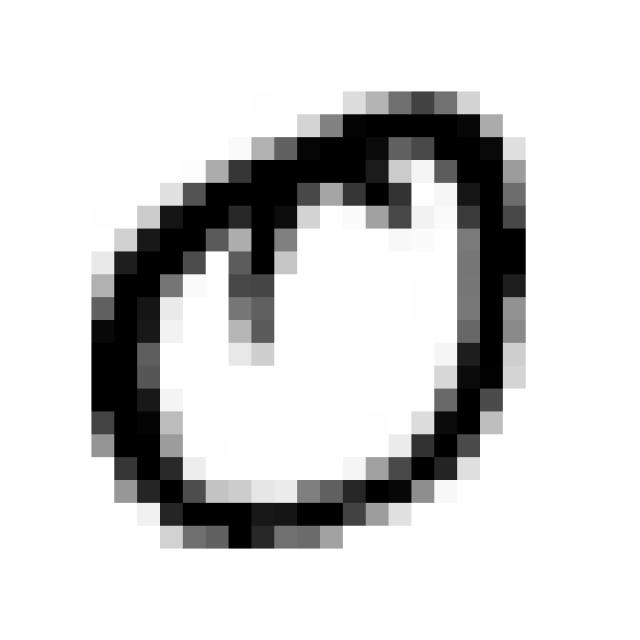5 -five-: (70, 73, 542, 561)
